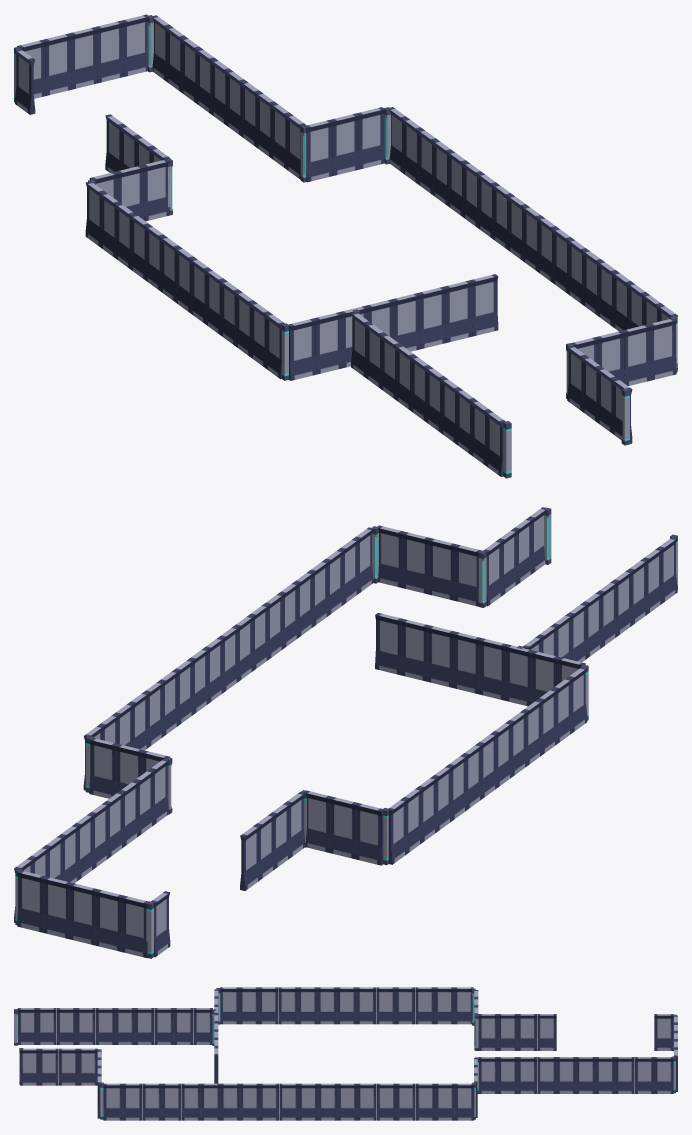
The model's file is Wall2(NEW).fbx.
3 renders of one model, top to bottom at view 1: azimuth 30°, elevation 25°; view 2: azimuth 150°, elevation 25°; view 3: azimuth 270°, elevation 25°, orthographic. The views are drawn at different scales.
Visible parts, largest first — view 1: Cube.161; view 2: Cube.161; view 3: Cube.161.
Boxes of the visible parts, x1,y1,x2,y2 form: Cube.161: (14, 14, 677, 478); Cube.161: (14, 507, 677, 958); Cube.161: (14, 987, 677, 1120).
Bounding box in the file's own units: 1786 × 301 × 5123.
